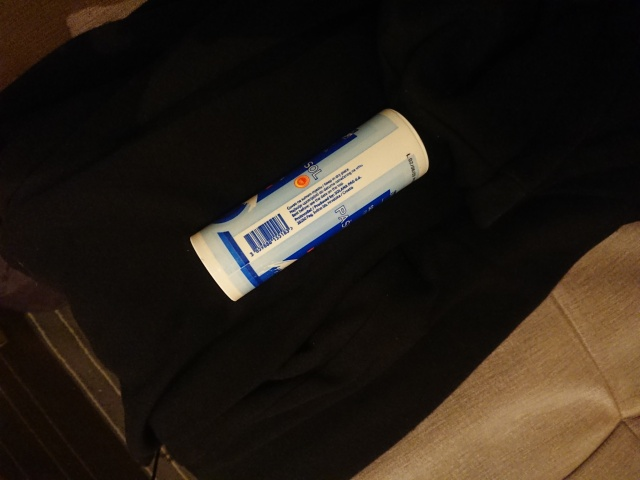Solana Pag Fine Sea Salt 250g: (187, 106, 432, 304)
